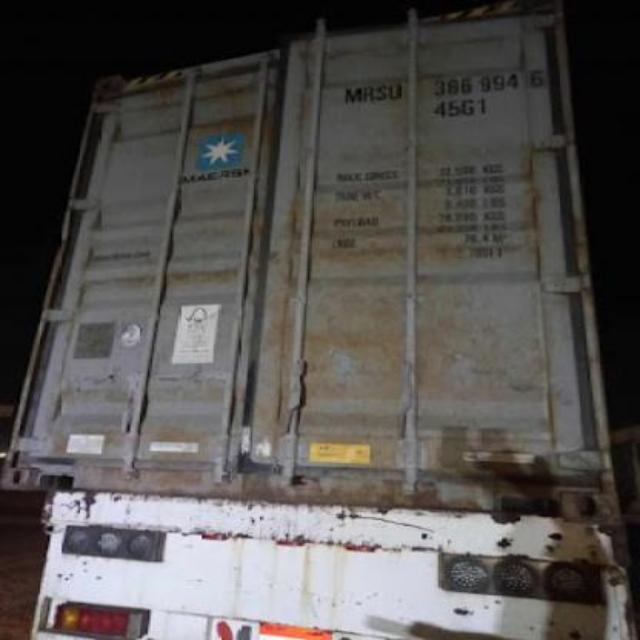3: (428, 74, 444, 100)
4: (506, 69, 522, 95)
6: (528, 66, 544, 90), (458, 74, 474, 96)
8: (444, 74, 460, 96)
9: (488, 72, 506, 96), (476, 72, 489, 98)
M: (342, 83, 362, 107)
R: (361, 77, 374, 106)
S: (372, 79, 386, 109)
U: (388, 80, 404, 106)
